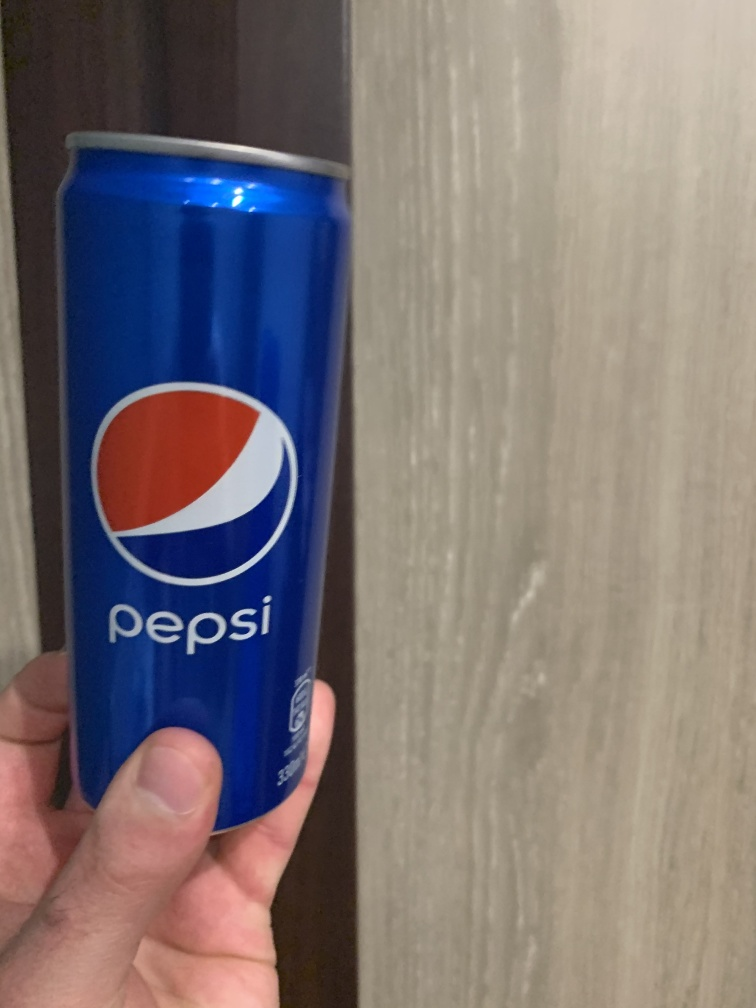pepsi: (55, 127, 356, 818)
